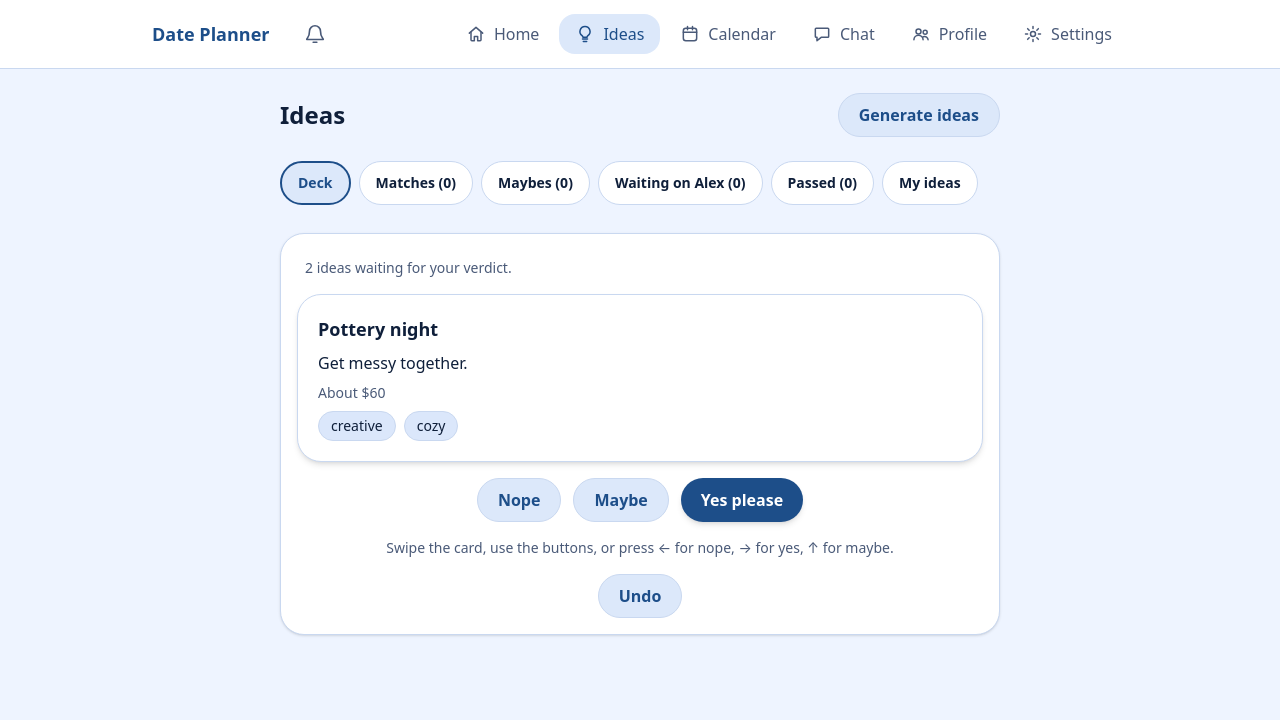
IdeasPage deck › tells you when there is nothing to undo (a 204 with no body) and changes nothing
Check: the heading "Pottery night" is shown, box top-left (318, 317), bottom-right (438, 341)
Click the button "Undo" at (640, 596), box top-left (598, 574), bottom-right (682, 618)
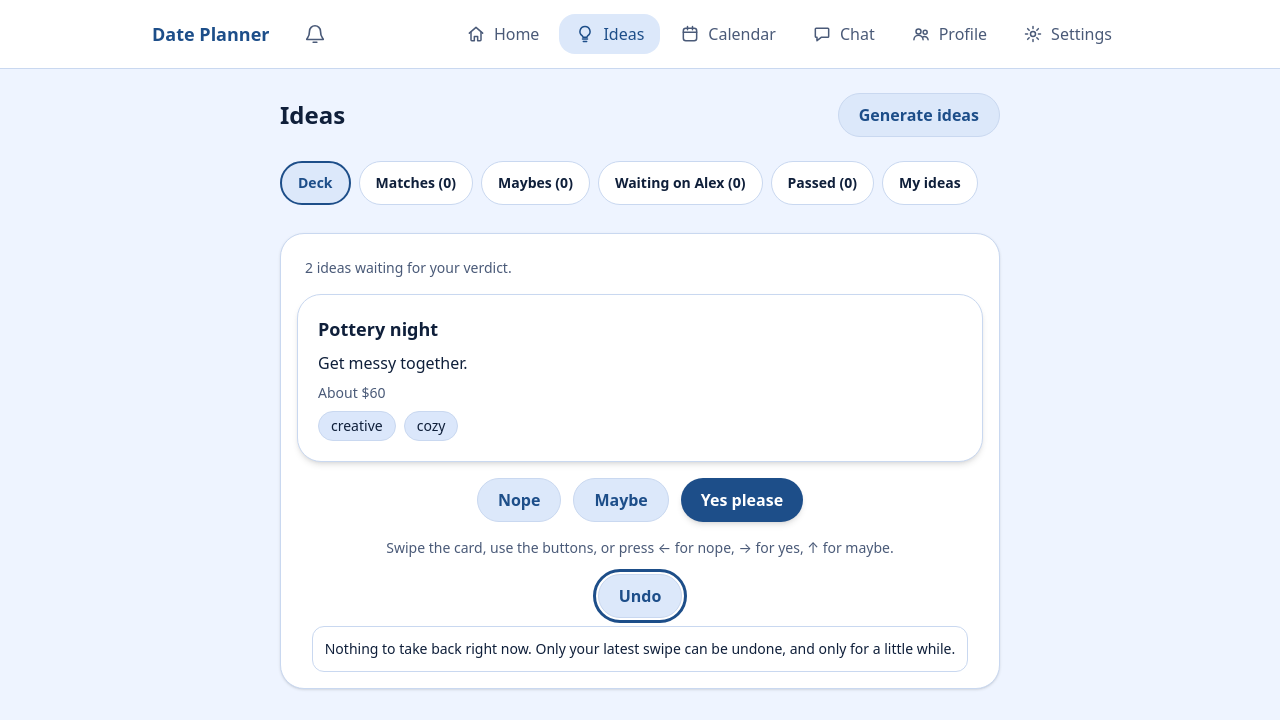
Check: the heading "Pottery night" is shown, box top-left (318, 317), bottom-right (438, 341)
Check: the message shows "Nothing to take back", box top-left (325, 639), bottom-right (955, 658)
